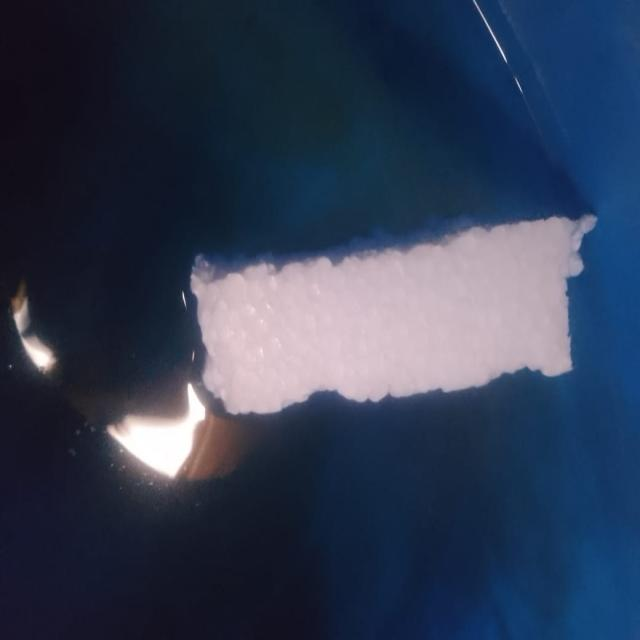litter: (170, 198, 590, 436)
